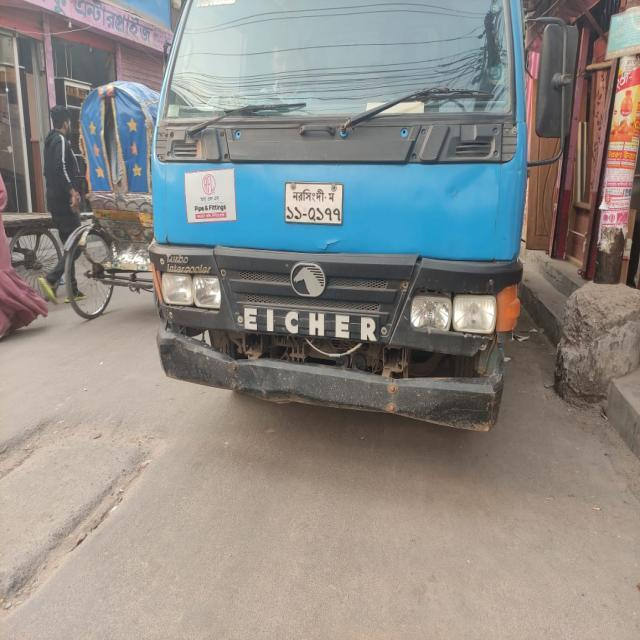numberplate: (283, 181, 343, 225)
